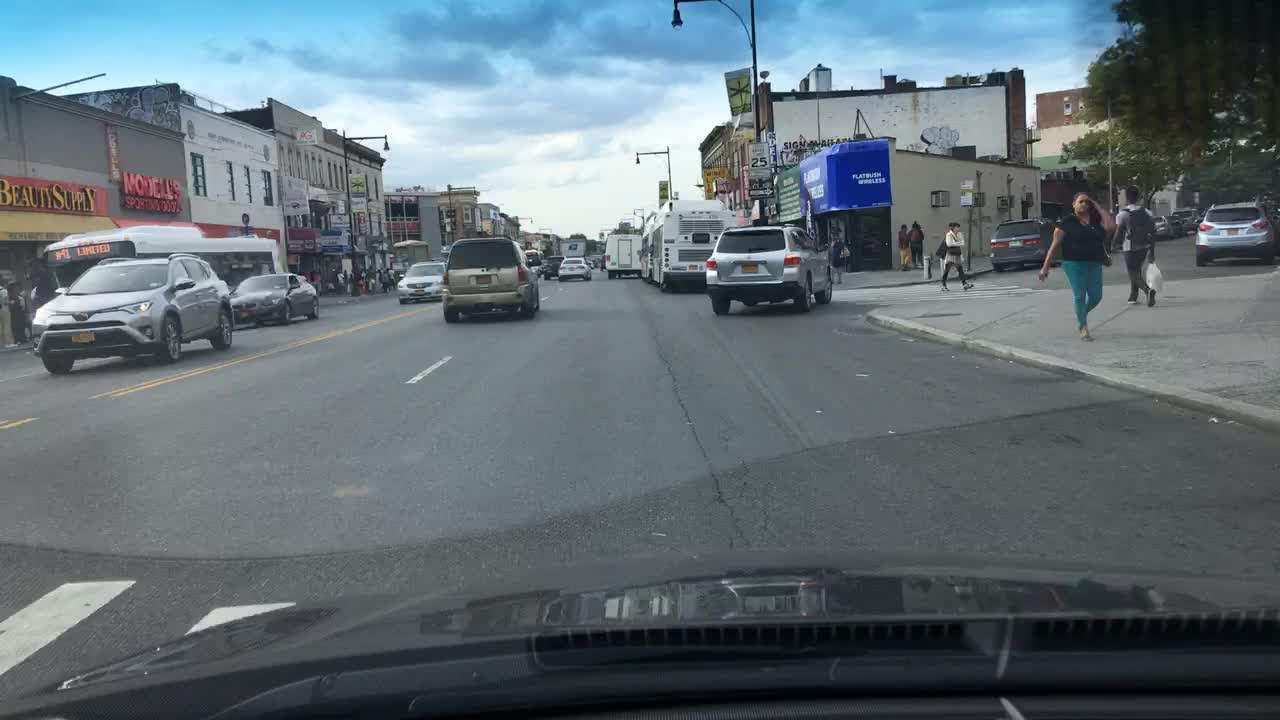bus: (638, 194, 742, 294)
car: (27, 252, 234, 376), (701, 222, 835, 316), (441, 235, 541, 324), (1191, 200, 1278, 269), (224, 271, 323, 329), (986, 214, 1065, 273), (394, 258, 449, 305), (1171, 208, 1208, 236), (522, 248, 545, 280), (541, 254, 566, 280), (1146, 213, 1171, 239), (1161, 213, 1187, 236), (582, 254, 596, 269)
person: (1036, 186, 1118, 343), (1109, 183, 1163, 308), (930, 219, 976, 292), (10, 281, 26, 347), (905, 219, 926, 269), (0, 278, 15, 348), (895, 223, 911, 271), (360, 264, 373, 293), (375, 266, 387, 292), (334, 269, 347, 292), (346, 262, 353, 298), (387, 265, 396, 287)
traffic sign: (748, 141, 770, 170), (748, 186, 775, 198)
truck: (604, 233, 642, 280)
